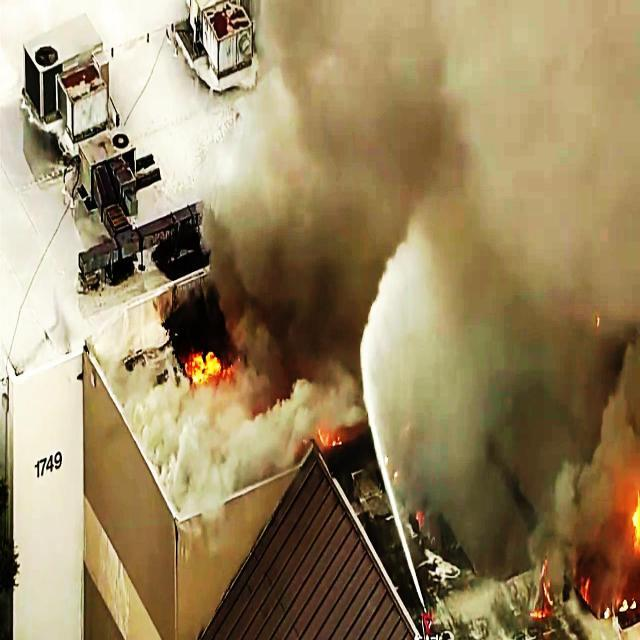Fire: (169, 338, 239, 400)
